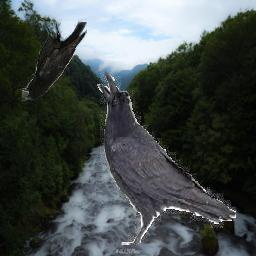Crow: (98, 69, 237, 246), (21, 15, 88, 101)
